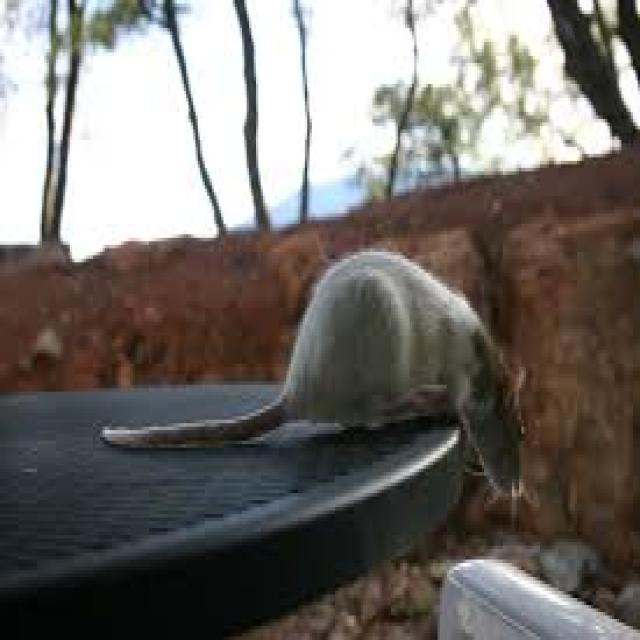rat: (98, 241, 528, 504)
